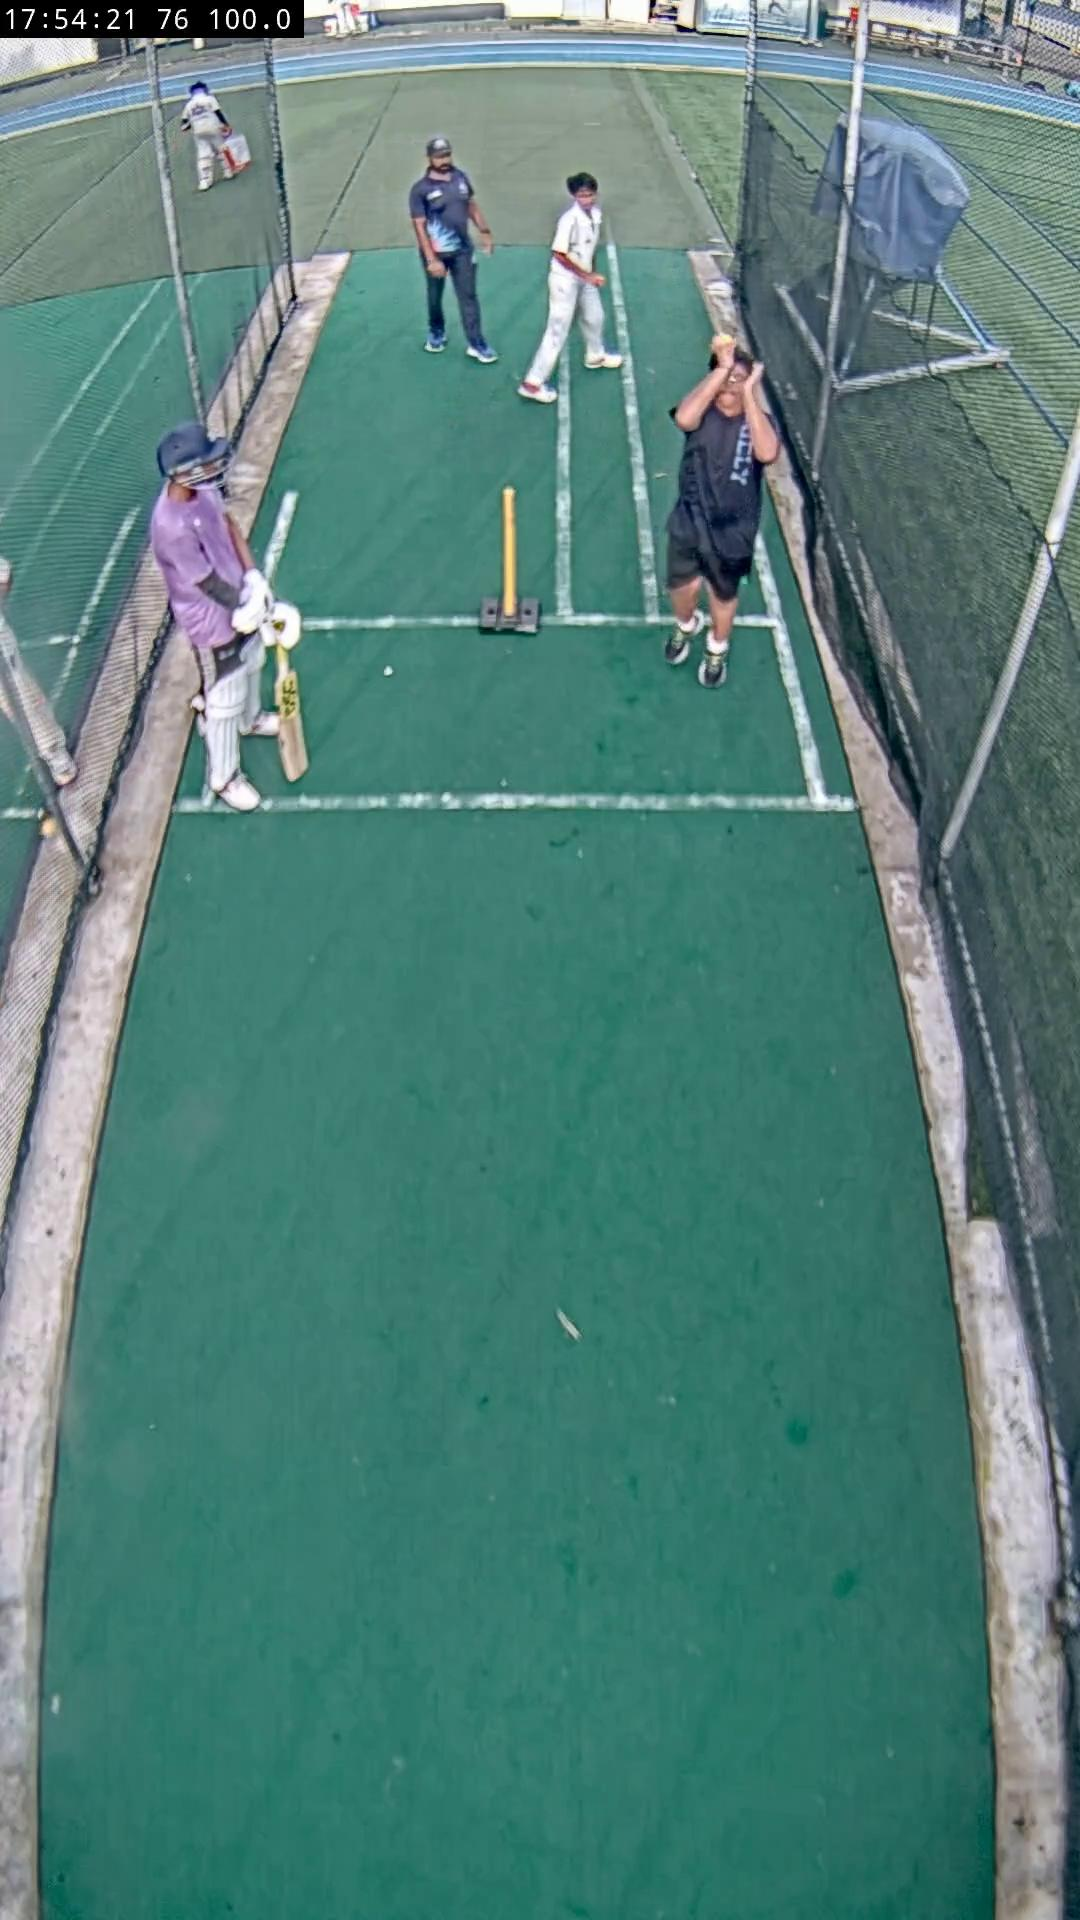ball: (712, 334, 735, 347)
stumps: (480, 488, 541, 634)
